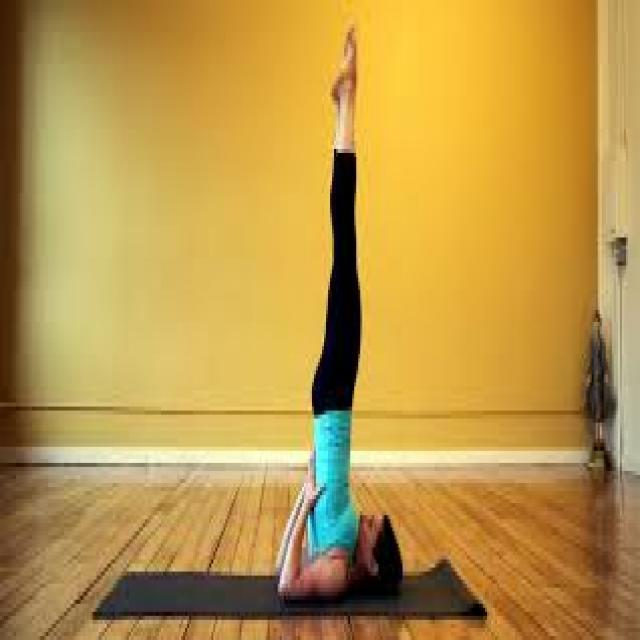yoga-pose shoulderstand: (276, 14, 406, 596)
